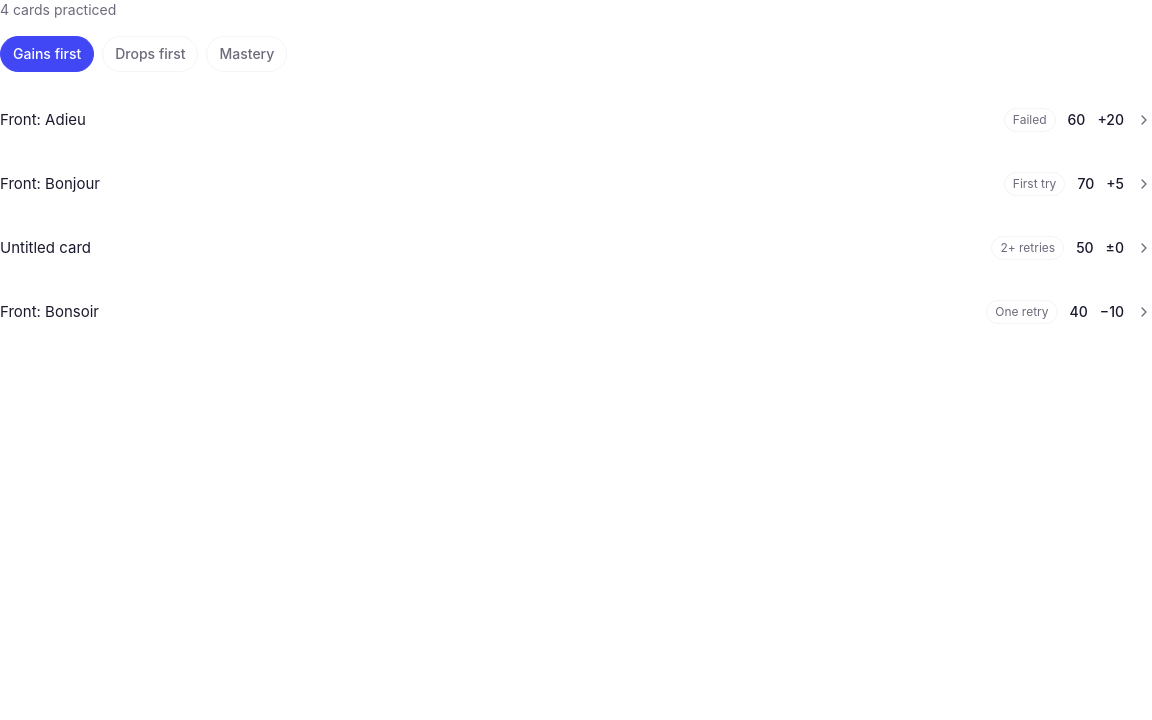
Test case: RunBreakdown › shows no attempt header for a single-attempt card
What coordinates should you click on to do the following:
click the button "Front: Bonjour First try 70 +5"
I would click on:
 (50, 184)
Its box is [0,152,1151,216].
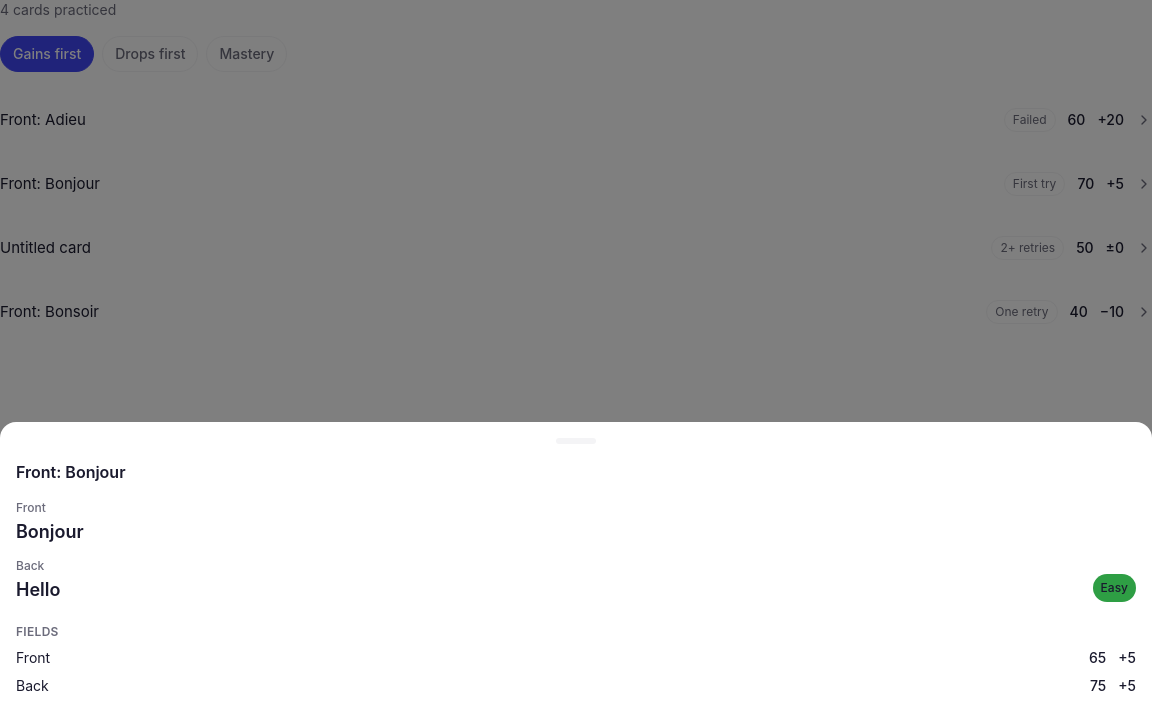
Expected: the text "Bonjour" is shown, [16,521,84,542]
Expected: the text "Easy" is shown, [1093,574,1136,602]
